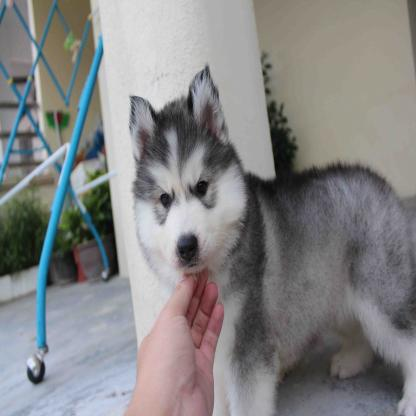dog: (124, 63, 416, 416)
